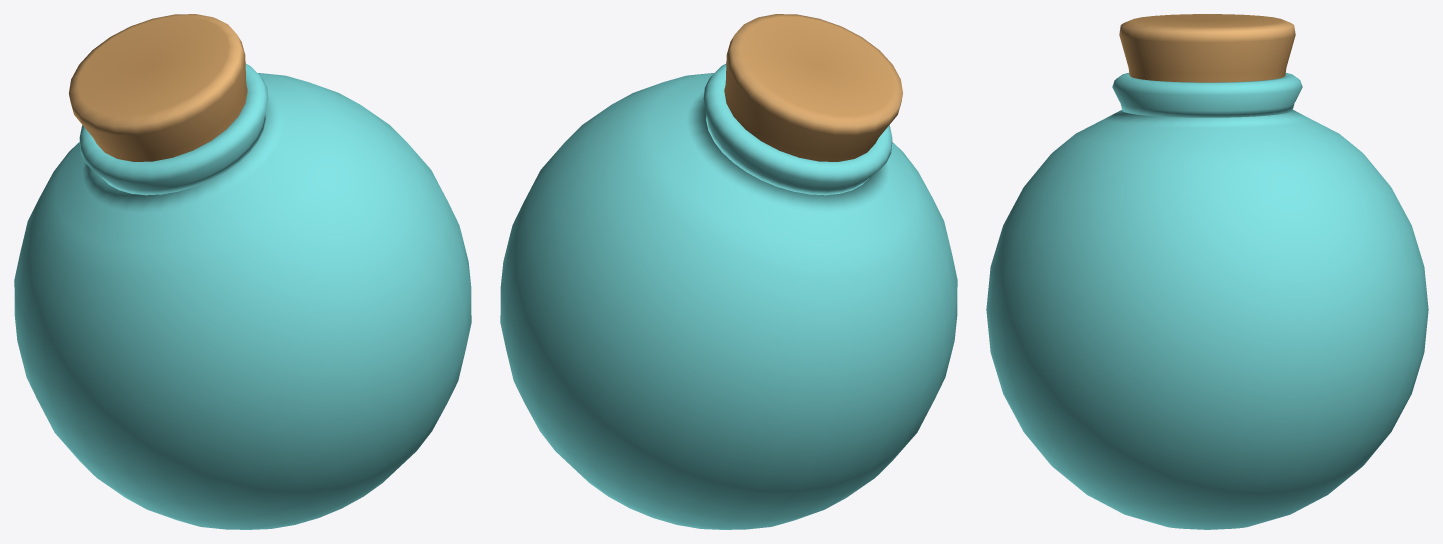
Rendered from potion.fbx.
3 renders of one model, left to right at view 1: azimuth 30°, elevation 25°; view 2: azimuth 150°, elevation 25°; view 3: azimuth 270°, elevation 25°, orthographic. The views are drawn at different scales.
Visible parts, largest first — view 1: potion, potion_inside; view 2: potion, potion_inside; view 3: potion, potion_inside.
Part boxes in pixels (x1,y1,x2,y2): potion: (14,63,471,529); potion_inside: (69,14,247,161); potion: (500,63,957,529); potion_inside: (724,14,902,161); potion: (986,73,1428,529); potion_inside: (1119,14,1295,82).
Size of the model in its own units: 1.13 by 1.33 by 1.13.
